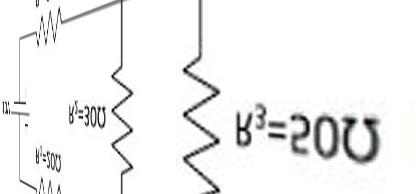resistor: (175, 47, 230, 190), (106, 56, 143, 173), (27, 2, 69, 47)
